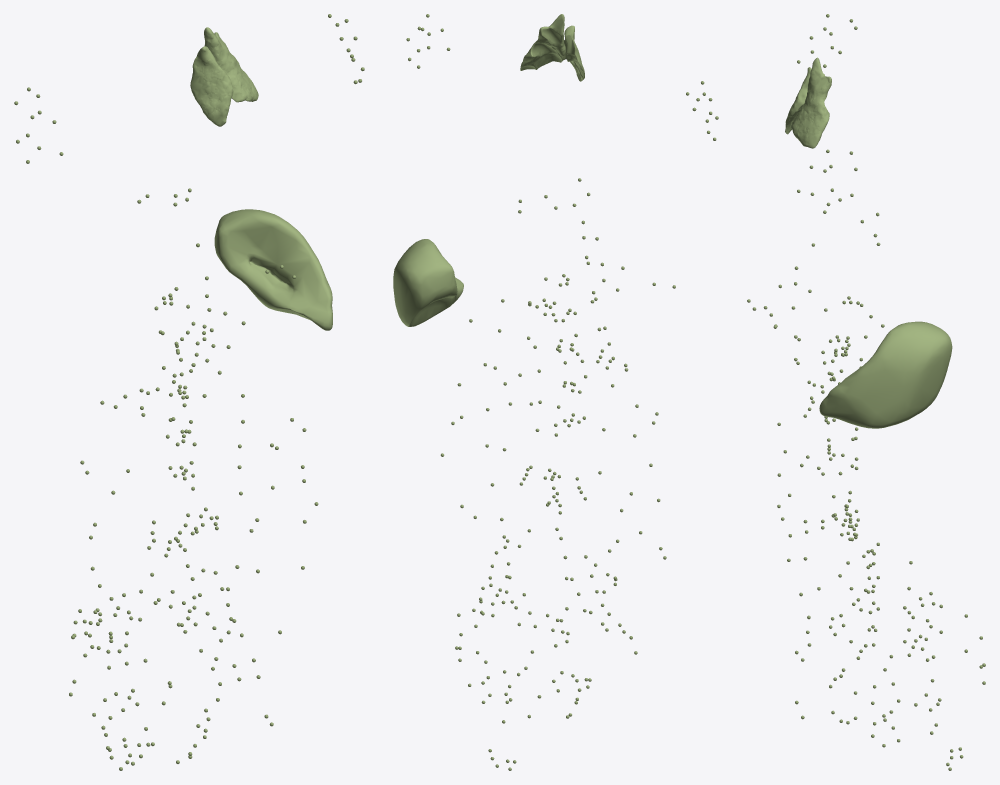
Rendered from detail-lymphatic-trunk.glb.
The picture shows the model from 3 angles, left to right: view 1: azimuth 30°, elevation 25°; view 2: azimuth 150°, elevation 25°; view 3: azimuth 270°, elevation 25°; orthographic projection. The views are drawn at different scales.
Visible parts, largest first — view 1: za-ee4b9c9d9e5d4898, za-82503f4fef514549, za-ce0542cfa1aa619e; view 2: za-ee4b9c9d9e5d4898, za-ce0542cfa1aa619e, za-82503f4fef514549; view 3: za-ee4b9c9d9e5d4898, za-ce0542cfa1aa619e, za-82503f4fef514549.
Part boxes in pixels (x1=…): za-ee4b9c9d9e5d4898: x1=214, y1=209, x2=332, y2=330; za-82503f4fef514549: x1=190, y1=46, x2=233, y2=126; za-ce0542cfa1aa619e: x1=204, y1=27, x2=258, y2=102; za-ee4b9c9d9e5d4898: x1=393, y1=239, x2=463, y2=326; za-ce0542cfa1aa619e: x1=520, y1=14, x2=565, y2=70; za-82503f4fef514549: x1=558, y1=25, x2=584, y2=81; za-ee4b9c9d9e5d4898: x1=819, y1=321, x2=952, y2=428; za-ce0542cfa1aa619e: x1=791, y1=57, x2=831, y2=148; za-82503f4fef514549: x1=785, y1=67, x2=811, y2=134.
Bounding box in the file's own units: 0.2524 × 0.5644 × 0.171.
